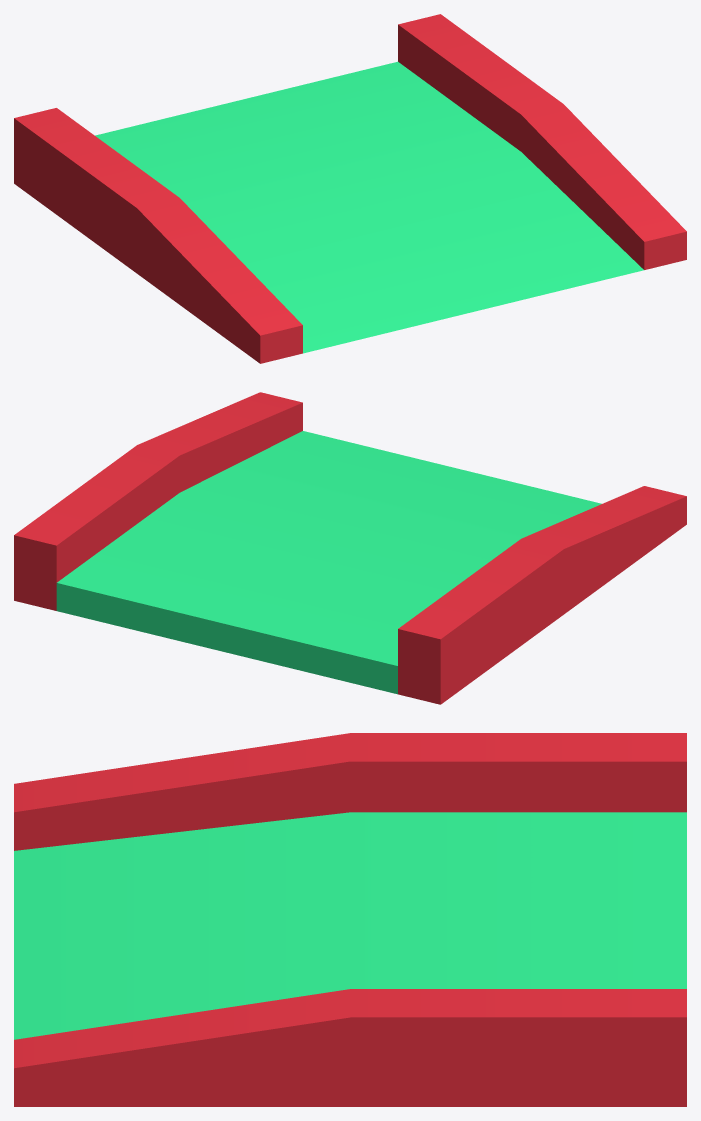
Rendered from start.fbx.
The picture shows the model from 3 angles, top to bottom: view 1: azimuth 30°, elevation 25°; view 2: azimuth 150°, elevation 25°; view 3: azimuth 270°, elevation 25°; orthographic projection. The views are drawn at different scales.
Parts seen in each view (by area): view 1: start; view 2: start; view 3: start.
Boxes of the visible parts, x1,y1,x2,y2 form: start: (14,14,686,363); start: (14,392,686,704); start: (14,733,686,1106).
Size of the model in its own units: 10 by 1.47 by 10.
